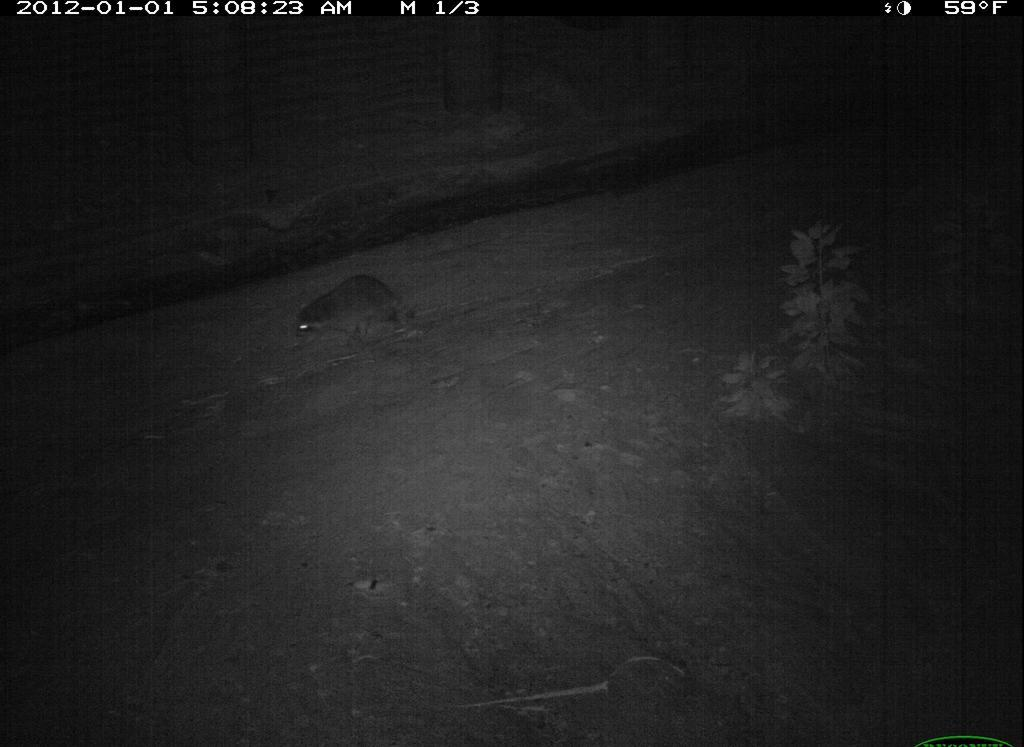raccoon: (283, 271, 428, 363)
